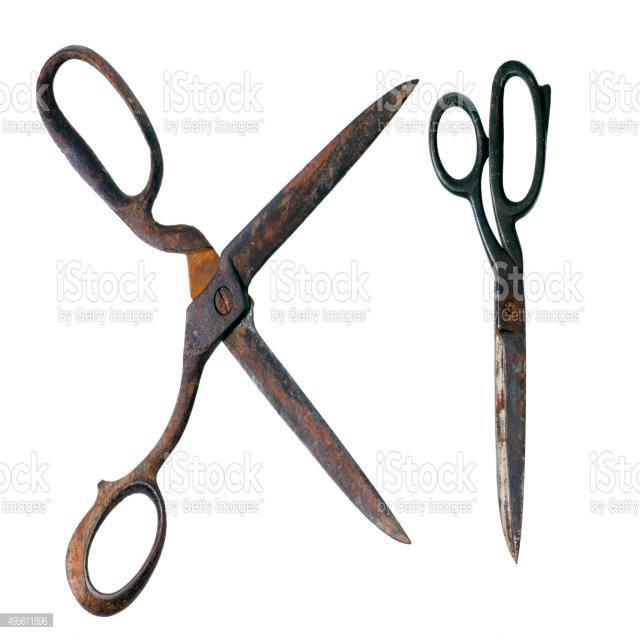scissor: (34, 47, 418, 619), (427, 57, 554, 564)
